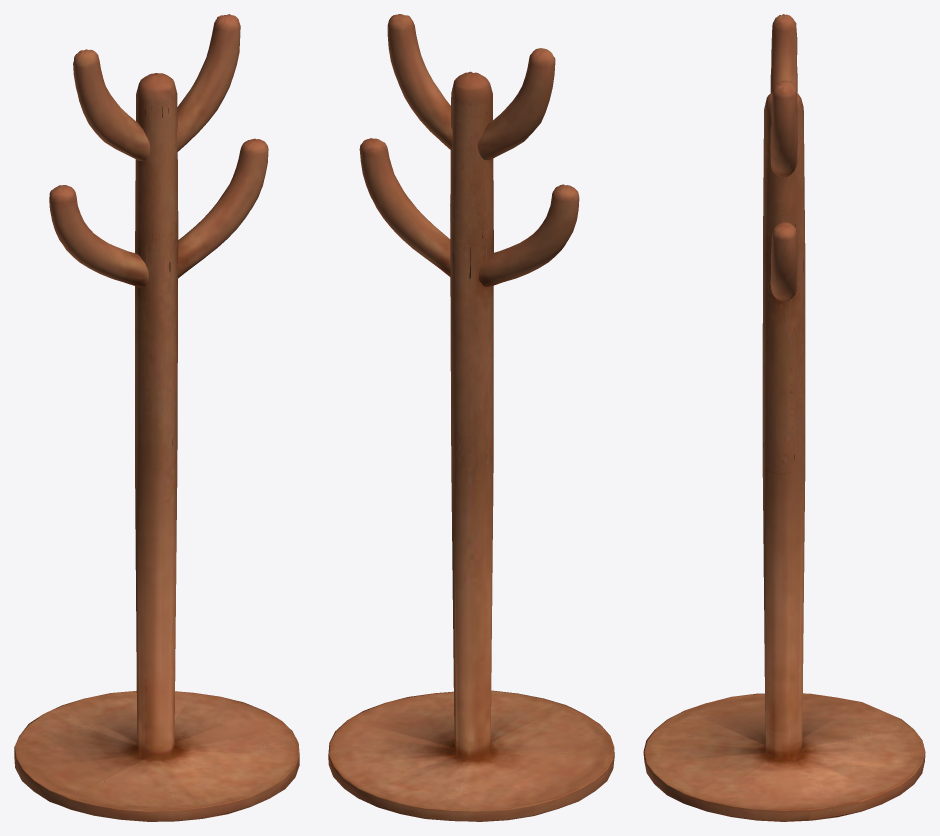
The model's file is coat_rack.glb.
The picture shows the model from 3 angles, left to right: view 1: azimuth 30°, elevation 25°; view 2: azimuth 150°, elevation 25°; view 3: azimuth 270°, elevation 25°; orthographic projection. The views are drawn at different scales.
Visible parts, largest first — view 1: geometry_0; view 2: geometry_0; view 3: geometry_0.
Part boxes in pixels (x1,y1,x2,y2): geometry_0: (14, 14, 299, 821); geometry_0: (328, 14, 614, 821); geometry_0: (643, 14, 925, 821).
Size of the model in its own units: 0.3559 by 1 by 0.3585.
1 material, 1 textured.
